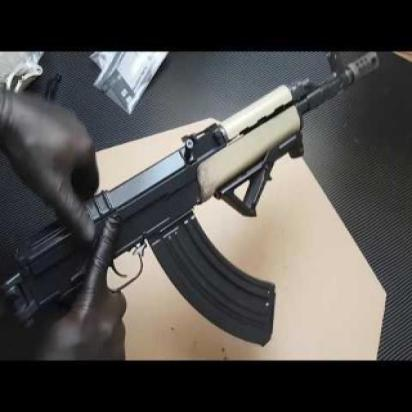Gun: (0, 48, 382, 343)
